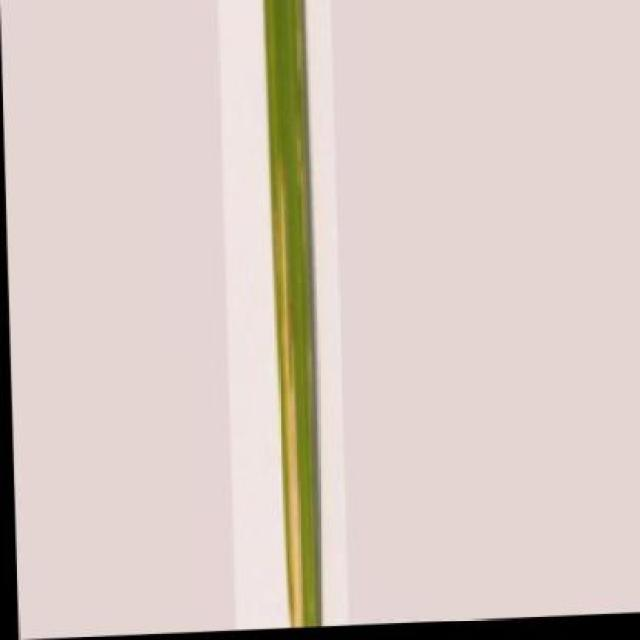Brown_Spot: (260, 0, 326, 631)
